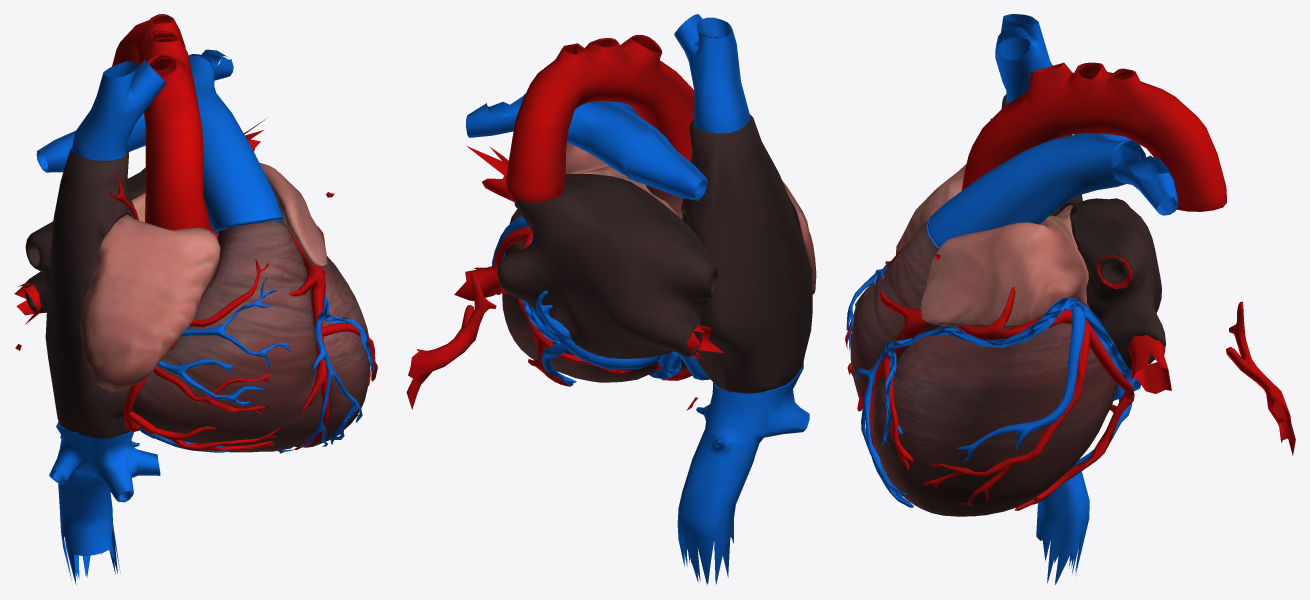
Rendered from coronary.glb.
The picture shows the model from 3 angles, left to right: view 1: azimuth 30°, elevation 25°; view 2: azimuth 150°, elevation 25°; view 3: azimuth 270°, elevation 25°; orthographic projection. The views are drawn at different scales.
Parts seen in each view (by area): view 1: Right_ventricle, Right_auricle, Right_atrium_to_superior_vena_cava, Aortic_arch, Inferior_vena_cava, Pulmonary_trunk, Superior_vena_cava, Left_ventricle, Left_auricle, Right_coronary_artery, Anterior_cardiac_vein, Great_cardiac_vein (+7 smaller); view 2: Posterior_wall_of_left_atrium, Right_atrium_to_superior_vena_cava, Aortic_arch, Inferior_vena_cava, Superior_vena_cava, Pulmonary_trunk, Left_inferior_pulmonary_vein, Right_pulmonary_artery, Left_ventricle, Left_pulmonary_artery, Circumflex_branch_of_left_coronary_artery, Coronary_sinus (+9 smaller); view 3: Left_ventricle, Aortic_arch, Left_auricle, Pulmonary_trunk, Posterior_wall_of_left_atrium, Right_ventricle, Great_cardiac_vein, Left_inferior_pulmonary_vein, Inferior_vena_cava, Circumflex_branch_of_left_coronary_artery, Superior_vena_cava, Marginal_branch_of_left_coronary_artery (+5 smaller).
Boxes of the visible parts, x1,y1,x2,y2 form: Right_ventricle: [132, 220, 322, 452]; Right_auricle: [80, 215, 220, 391]; Right_atrium_to_superior_vena_cava: [45, 148, 134, 438]; Aortic_arch: [112, 14, 213, 232]; Inferior_vena_cava: [49, 422, 160, 584]; Pulmonary_trunk: [126, 54, 282, 233]; Superior_vena_cava: [71, 59, 166, 160]; Left_ventricle: [294, 256, 369, 447]; Left_auricle: [259, 163, 327, 266]; Right_coronary_artery: [124, 259, 271, 432]; Anterior_cardiac_vein: [157, 277, 293, 404]; Great_cardiac_vein: [299, 266, 374, 448]; Posterior_wall_of_left_atrium: [497, 174, 718, 358]; Right_atrium_to_superior_vena_cava: [681, 114, 812, 393]; Aortic_arch: [506, 35, 694, 202]; Inferior_vena_cava: [677, 362, 809, 585]; Superior_vena_cava: [674, 14, 749, 133]; Pulmonary_trunk: [567, 101, 668, 177]; Left_inferior_pulmonary_vein: [406, 263, 507, 409]; Right_pulmonary_artery: [626, 133, 707, 200]; Left_ventricle: [502, 209, 658, 382]; Left_pulmonary_artery: [465, 94, 525, 137]; Circumflex_branch_of_left_coronary_artery: [517, 229, 634, 386]; Coronary_sinus: [562, 338, 661, 369]; Left_ventricle: [872, 316, 1117, 516]; Aortic_arch: [961, 62, 1226, 211]; Left_auricle: [920, 219, 1088, 327]; Pulmonary_trunk: [926, 132, 1145, 248]; Posterior_wall_of_left_atrium: [1069, 198, 1165, 370]; Right_ventricle: [850, 221, 939, 397]; Great_cardiac_vein: [854, 297, 1140, 507]; Left_inferior_pulmonary_vein: [1128, 301, 1295, 455]; Inferior_vena_cava: [1036, 471, 1089, 584]; Circumflex_branch_of_left_coronary_artery: [957, 287, 1134, 510]; Superior_vena_cava: [995, 14, 1052, 103]; Marginal_branch_of_left_coronary_artery: [923, 323, 1090, 507].
Bounding box in the file's own units: 0.1216 × 0.2052 × 0.1474.
35 materials, 35 textured.
